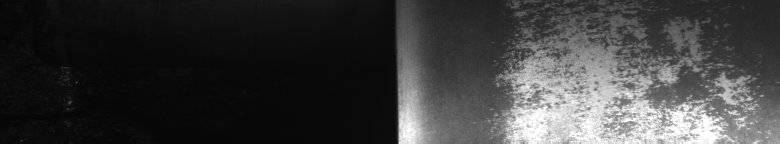kb: (491, 4, 764, 136)
